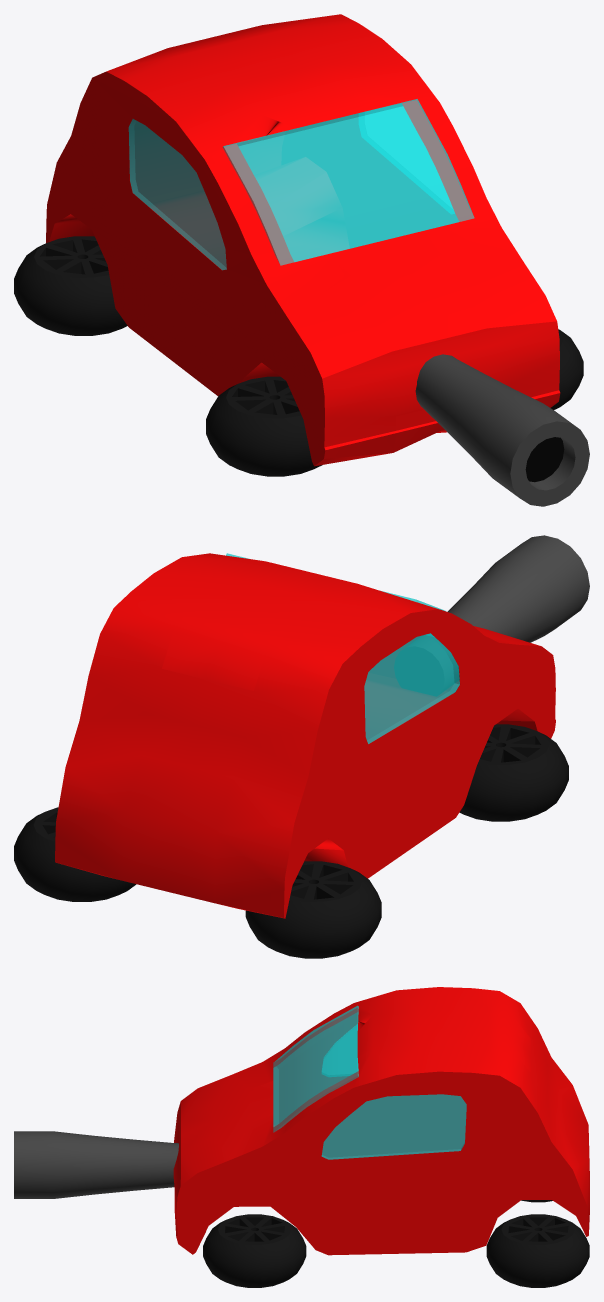
The model's file is car.FBX.
3 views of the same model, one above another, from view 1: azimuth 30°, elevation 25°; view 2: azimuth 150°, elevation 25°; view 3: azimuth 270°, elevation 25° (orthographic). The views are drawn at different scales.
Visible parts, largest first — view 1: body, windowfront, cannon, wheel003, wheel001, windowright, windowleft, wheel, hole; view 2: body, cannon, wheel003, wheel001, windowright, wheel002; view 3: body, cannon, windowleft, windowfront, wheel, wheel002, windowright.
Boxes of the visible parts, x1,y1,x2,y2 form: body: (46, 14, 560, 466); windowfront: (222, 99, 474, 265); cannon: (415, 354, 589, 506); wheel003: (14, 236, 127, 335); wheel001: (206, 376, 322, 476); windowright: (128, 119, 226, 270); windowleft: (359, 104, 454, 213); wheel: (551, 329, 583, 409); hole: (525, 437, 564, 482); body: (55, 553, 555, 918); cannon: (394, 535, 589, 696); wheel003: (245, 861, 381, 958); wheel001: (459, 724, 568, 821); windowright: (364, 633, 459, 743); wheel002: (14, 807, 136, 901); body: (173, 987, 589, 1255); cannon: (14, 1131, 178, 1198); windowleft: (321, 1094, 466, 1159); windowfront: (273, 1005, 358, 1132); wheel: (203, 1214, 306, 1287); wheel002: (486, 1214, 589, 1287); windowright: (322, 1024, 357, 1076).
Bounding box in the file's own units: 1.52 × 1.1 × 2.88.
